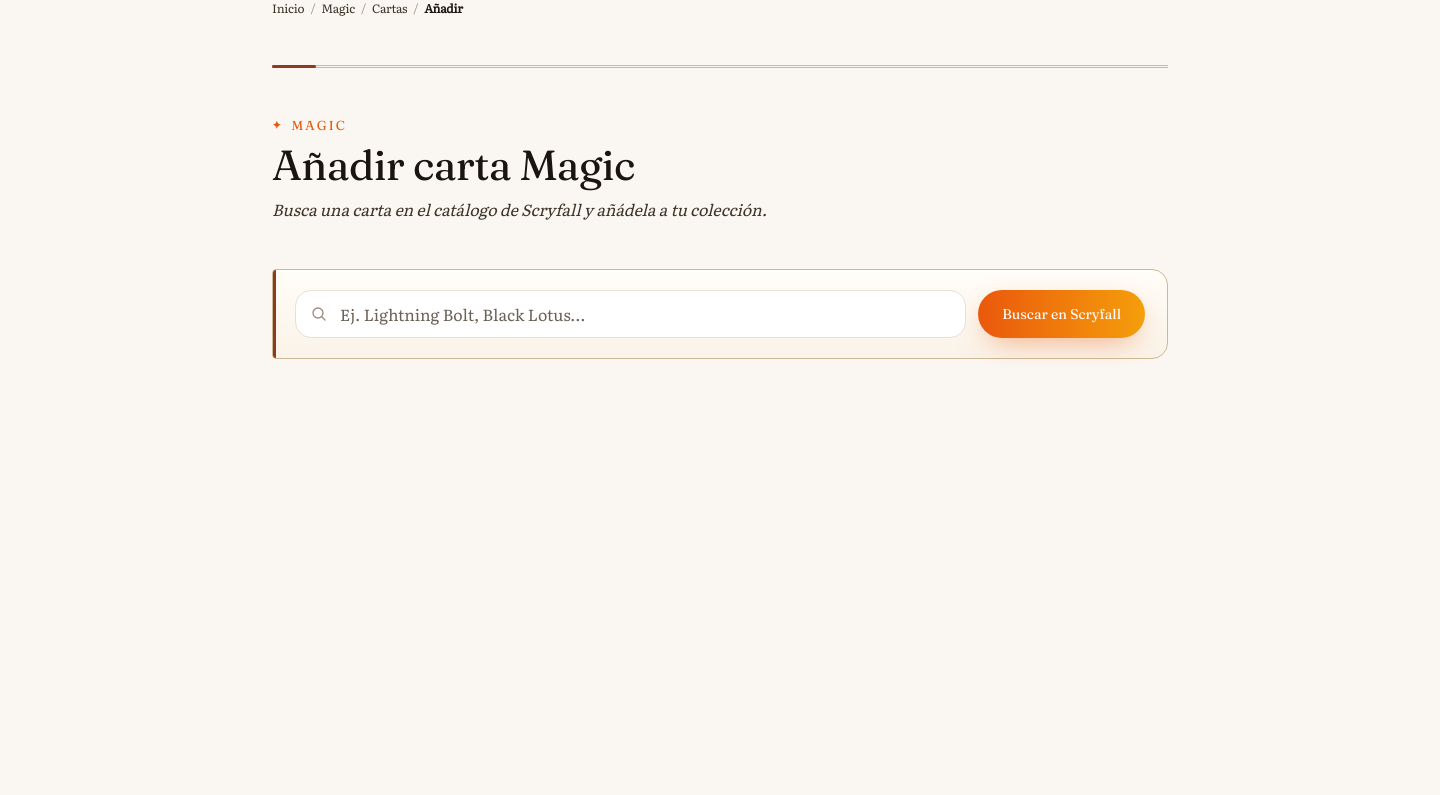
Test: MagicCreatePage selector de impresiones › cancelar el panel no guarda nada
Step 1. Type "Plains" into the field named "Buscar carta" → (631, 314), box top-left (295, 290), bottom-right (966, 338)
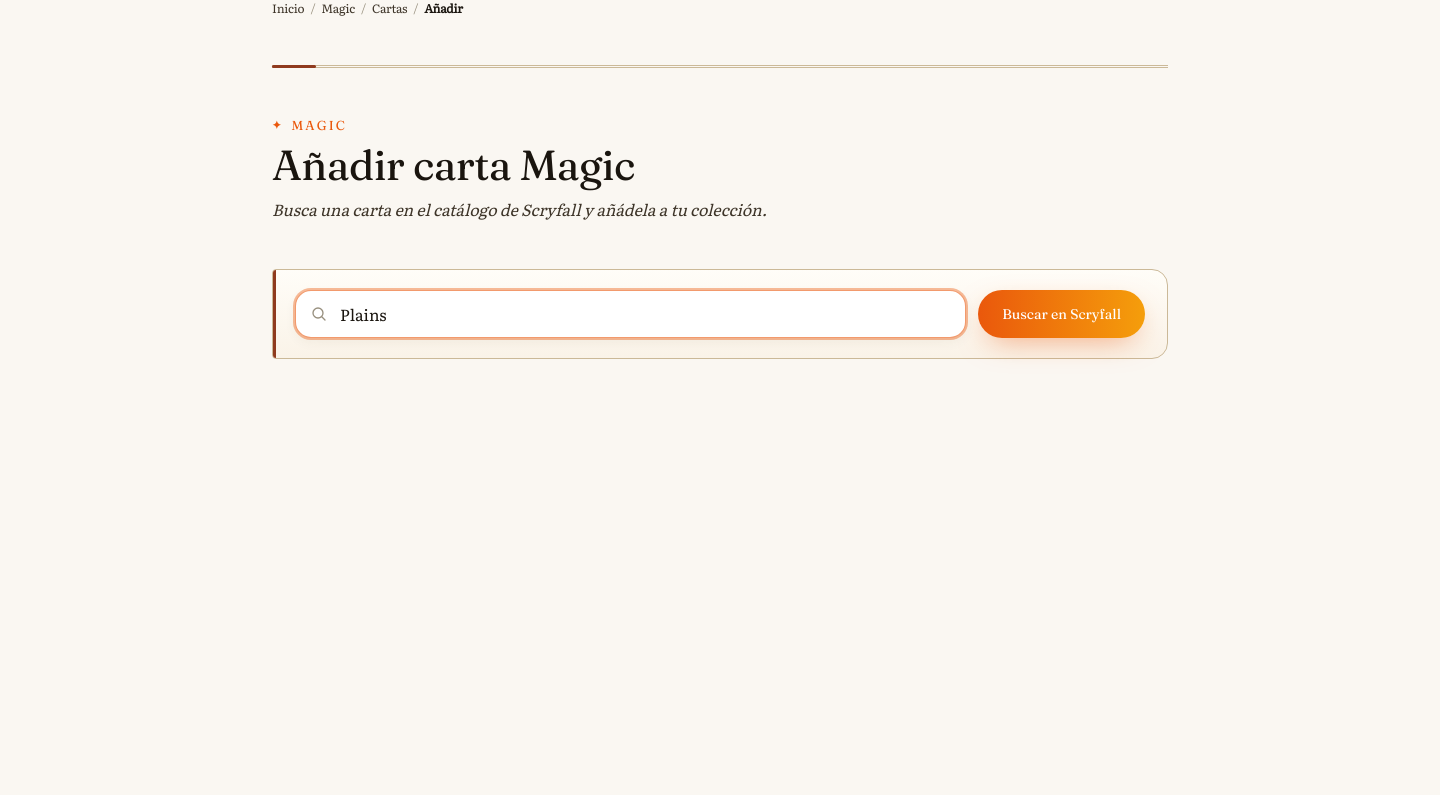
Step 2. Click the button "Buscar en Scryfall" → click(1062, 314), box top-left (978, 290), bottom-right (1145, 338)
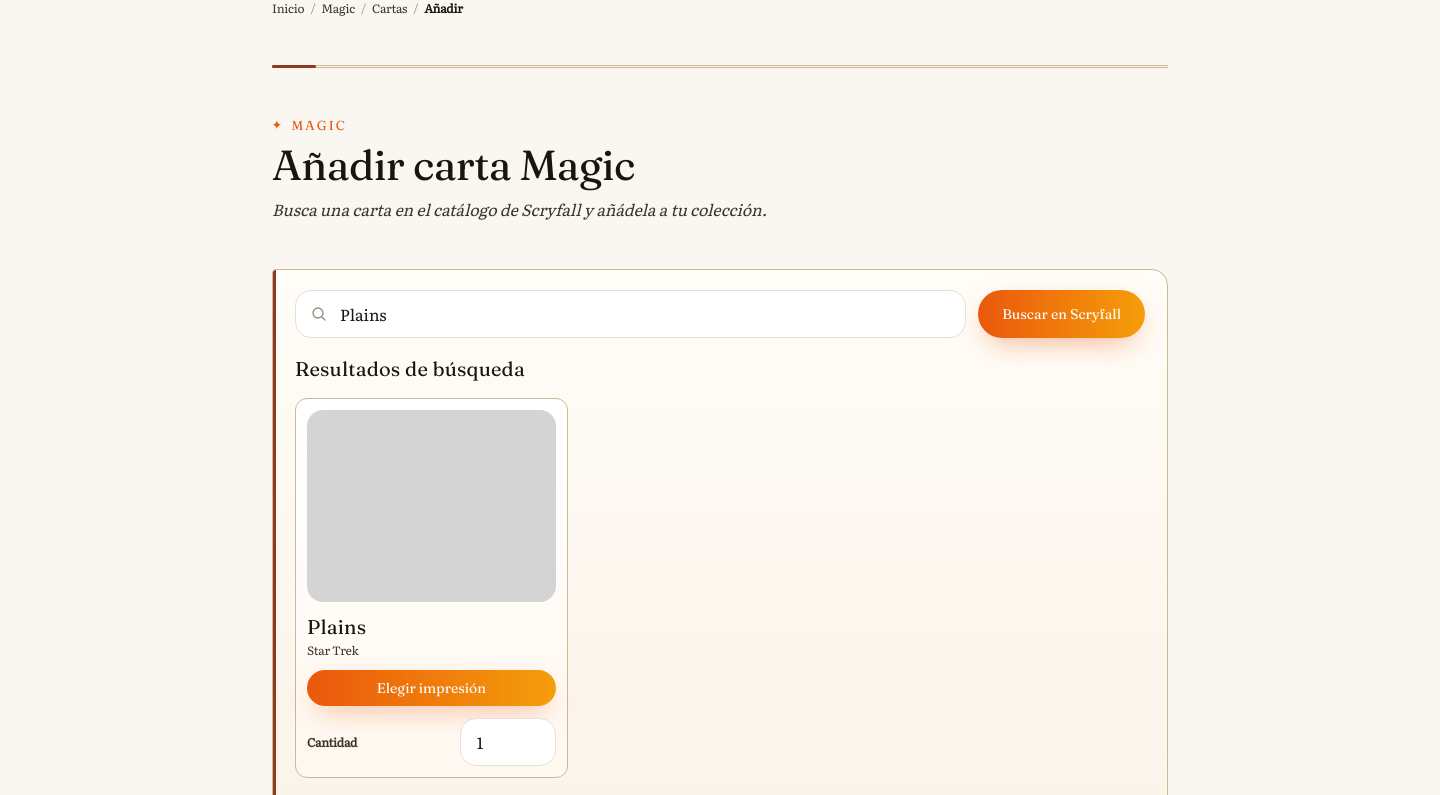
expect the heading "Plains" is shown: met, box top-left (307, 614), bottom-right (366, 640)
Step 3. Click the button with aria-label "Ver impresiones de Plains" → click(431, 534), box top-left (307, 410), bottom-right (556, 658)
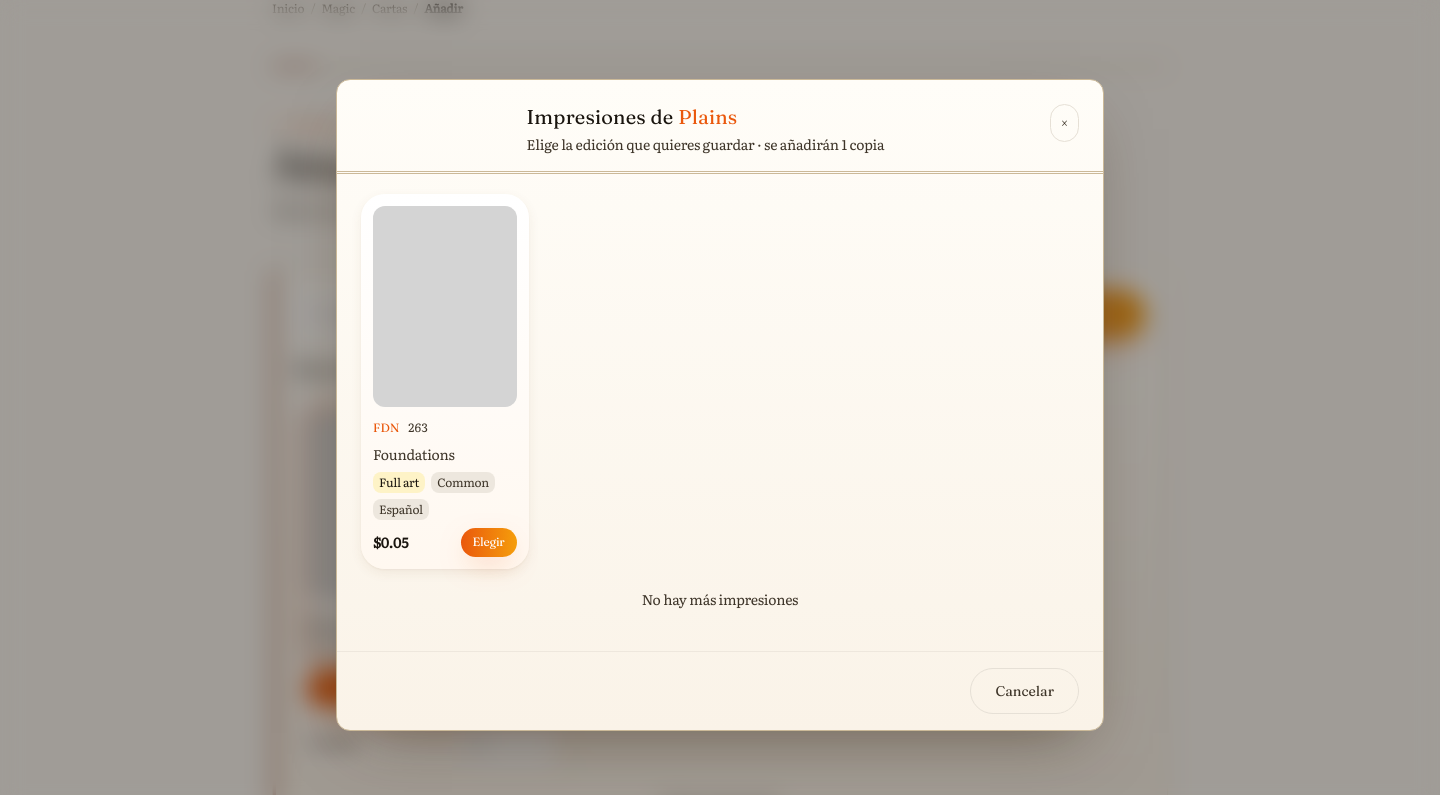
Step 4. Click the button "Cancelar" → click(1025, 691), box top-left (970, 668), bottom-right (1079, 714)
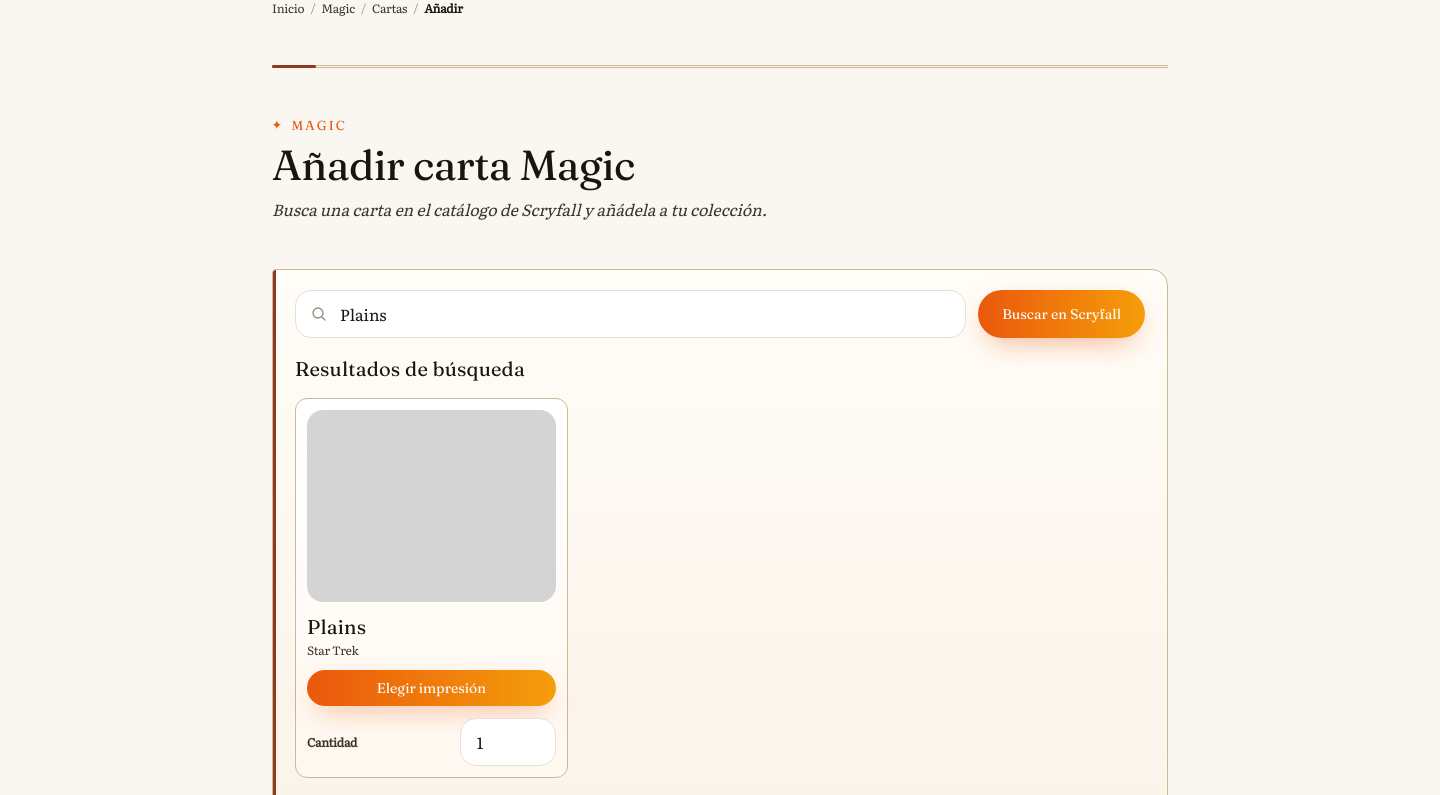
expect the dialog is gone: met
